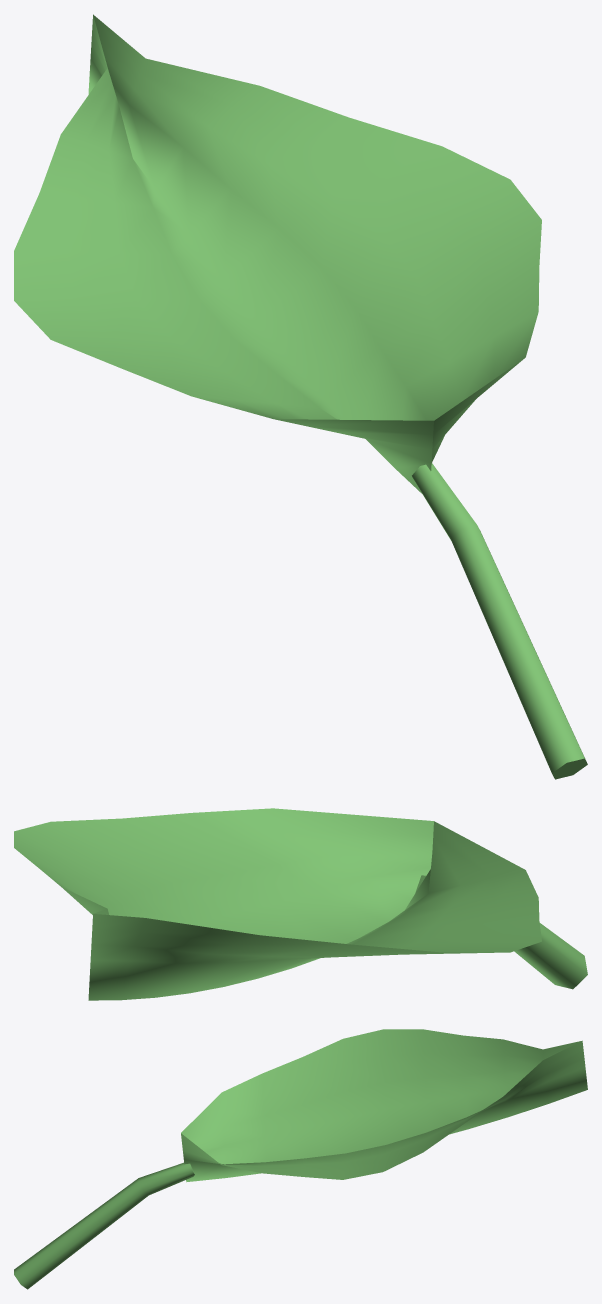
The model's file is gartenblatt.glb.
The picture shows the model from 3 angles, top to bottom: view 1: azimuth 30°, elevation 25°; view 2: azimuth 150°, elevation 25°; view 3: azimuth 270°, elevation 25°; orthographic projection. The views are drawn at different scales.
Parts seen in each view (by area): view 1: gartenblatt_lod0; view 2: gartenblatt_lod0; view 3: gartenblatt_lod0.
Boxes of the visible parts, x1=… form: gartenblatt_lod0: x1=14, y1=14, x2=587, y2=779; gartenblatt_lod0: x1=14, y1=808, x2=587, y2=1000; gartenblatt_lod0: x1=14, y1=1029, x2=587, y2=1289.
Size of what is drawn, in the model's own units: 0.8241 by 0.6632 by 1.4.
